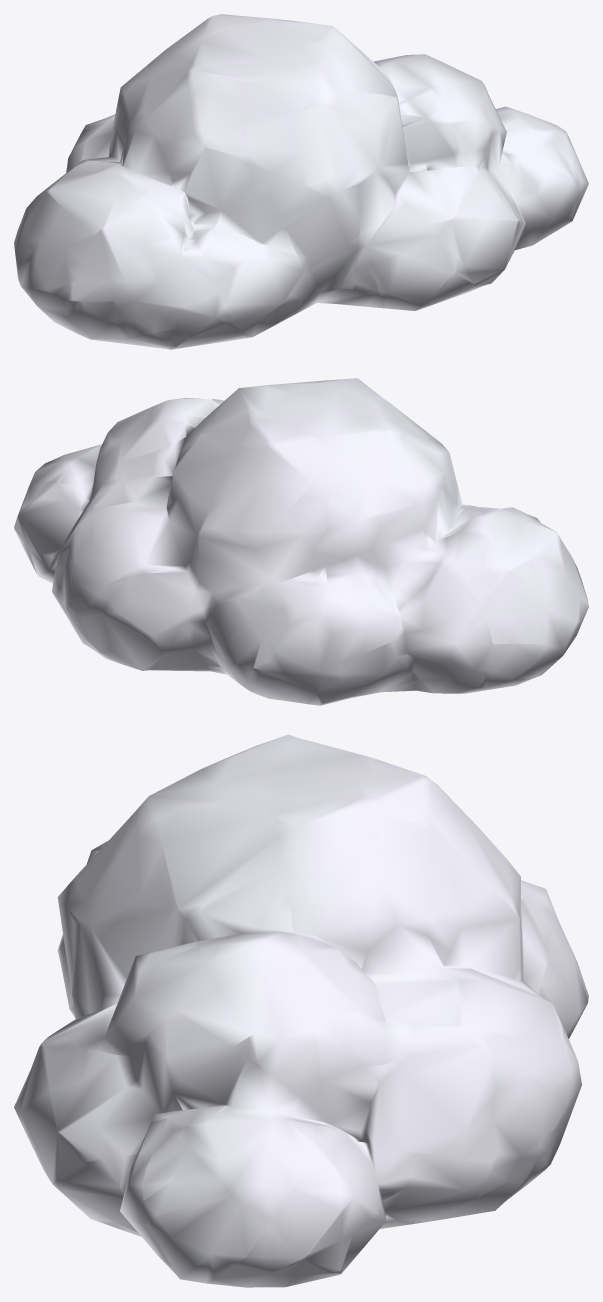
The model's file is cloud.glb.
3 views of the same model, one above another, from view 1: azimuth 30°, elevation 25°; view 2: azimuth 150°, elevation 25°; view 3: azimuth 270°, elevation 25° (orthographic). The views are drawn at different scales.
Visible parts, largest first — view 1: mesh_node; view 2: mesh_node; view 3: mesh_node.
Boxes of the visible parts, left/top/right/bottom form: mesh_node: left=14, top=14, right=588, bottom=349; mesh_node: left=14, top=378, right=588, bottom=705; mesh_node: left=14, top=734, right=588, bottom=1287.
Size of the model in its own units: 1.9 by 0.769 by 1.21.
1 material, 1 textured.
